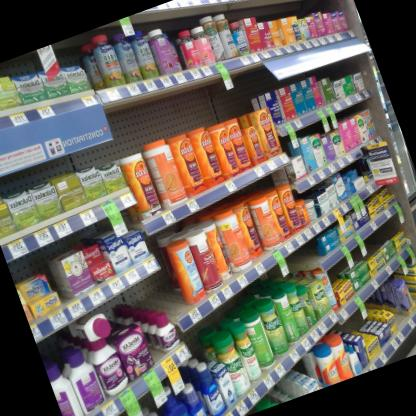empty_space: (138, 271, 197, 320), (42, 257, 77, 307), (290, 250, 332, 265), (390, 306, 413, 331)
